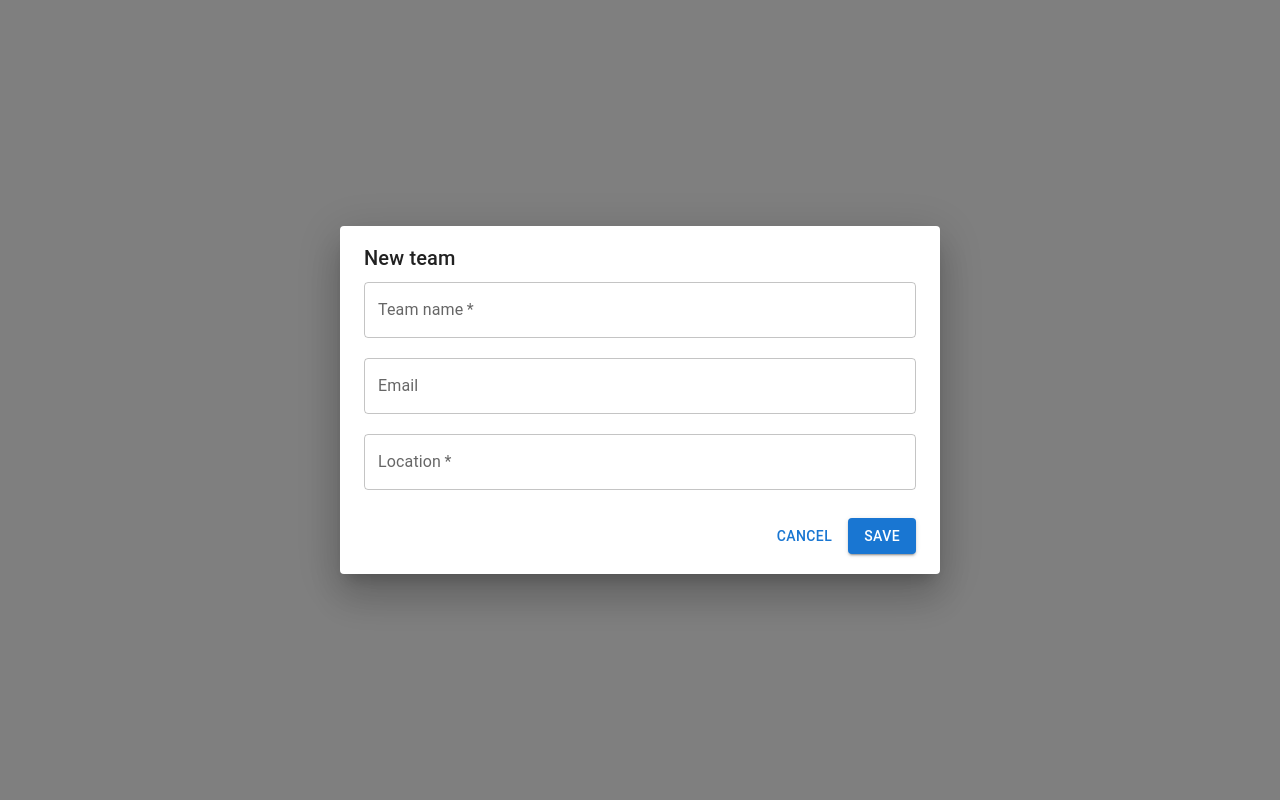
submitting › shows the server's message and keeps the form open on failure
Type "Platform" into the field labelled "Team name *" at coordinates (640, 310), box [364, 282, 916, 338]
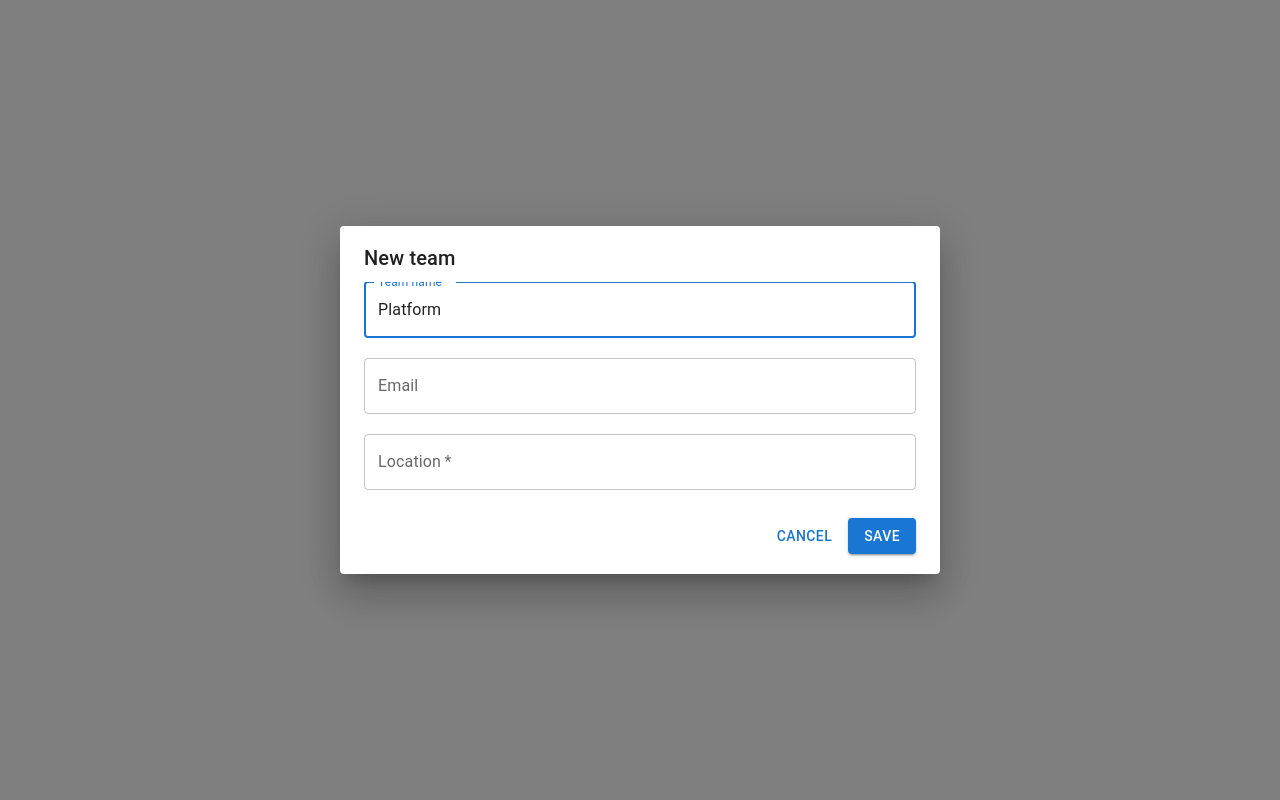
Type "London" into the field labelled "Location *" at coordinates (640, 462), box [364, 434, 916, 490]
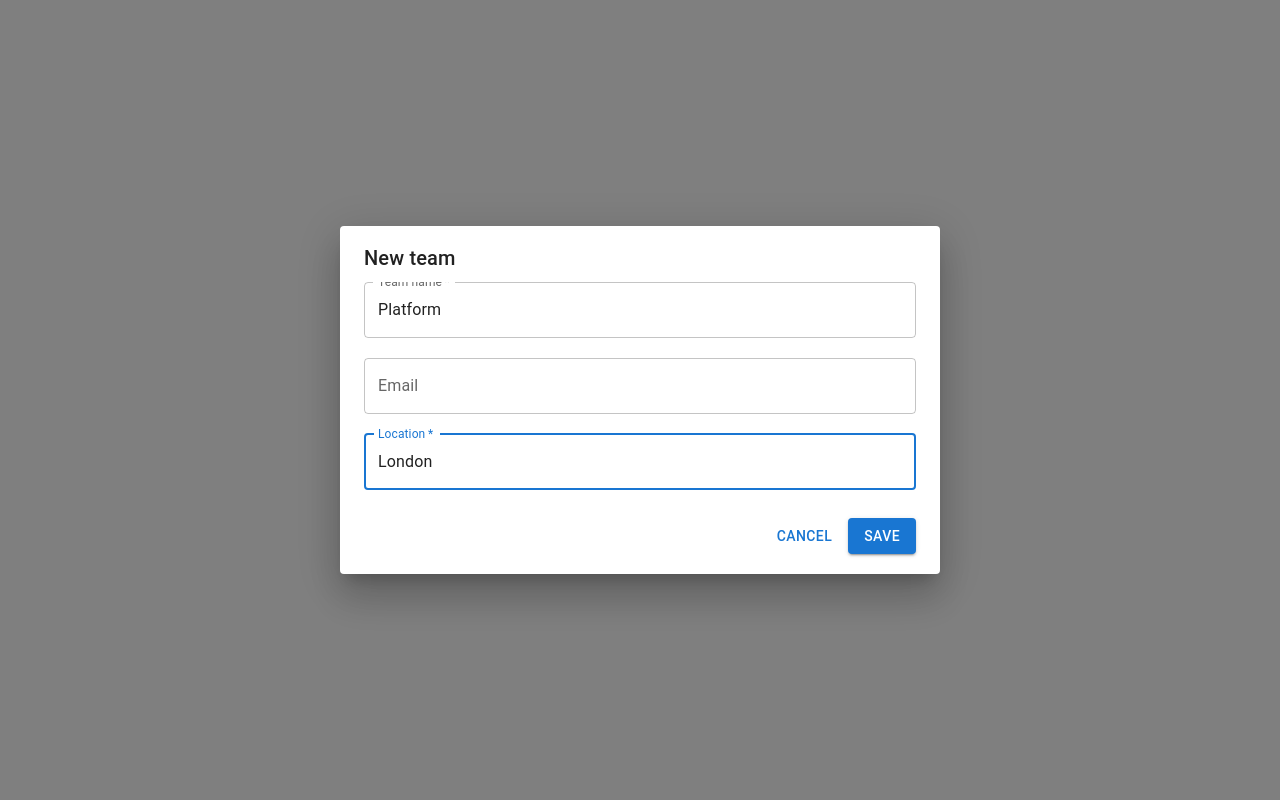
Click the button "Save" at coordinates (882, 536), box [848, 518, 916, 554]
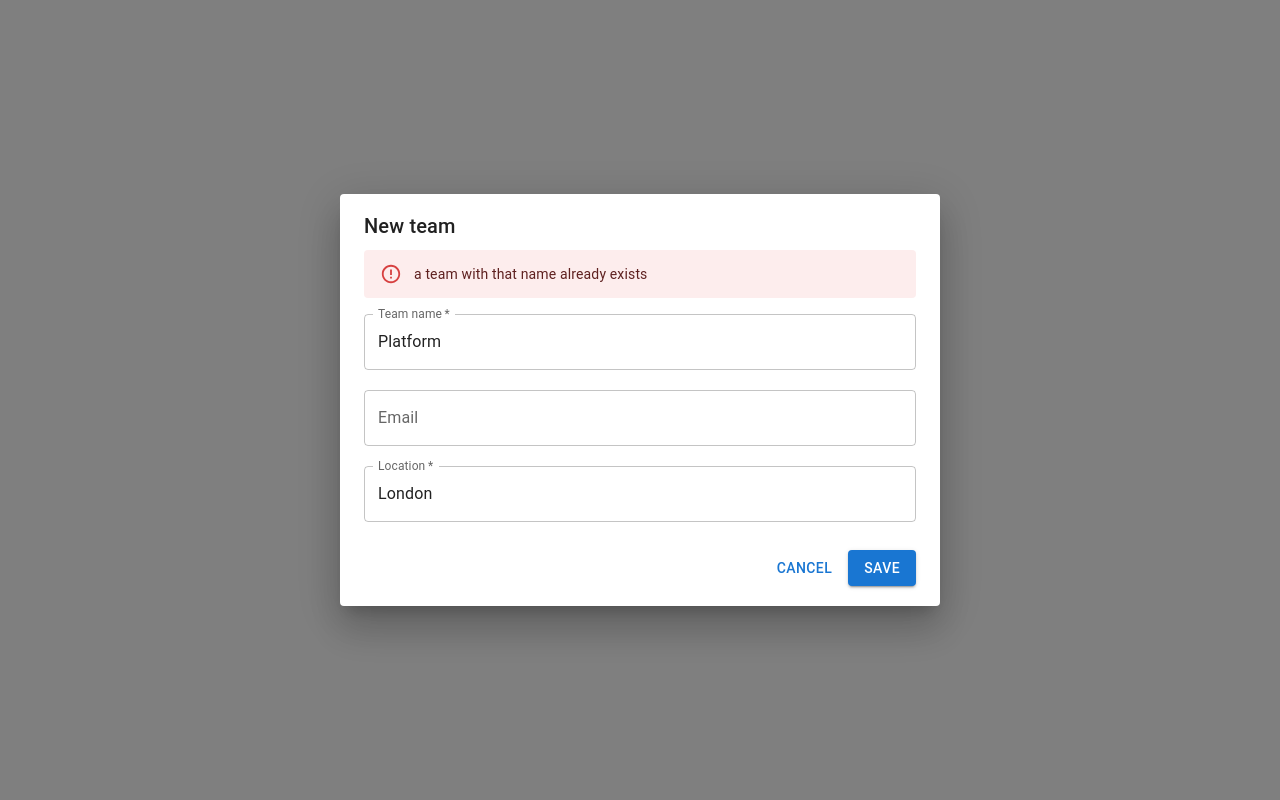
Now the text "a team with that name already exists" is shown, box [414, 266, 648, 282]
